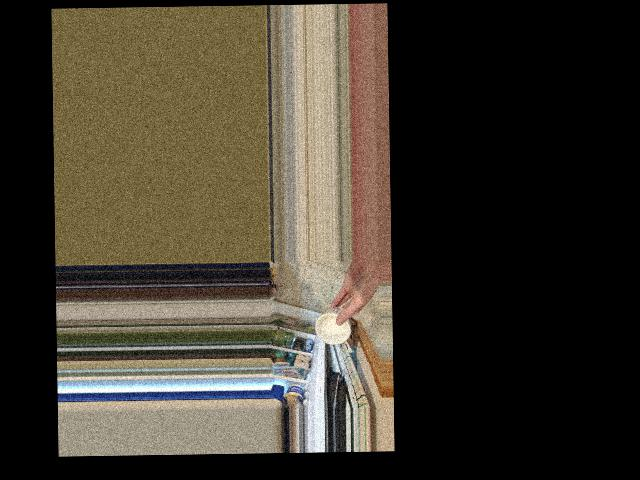cotage: (316, 304, 352, 349)
